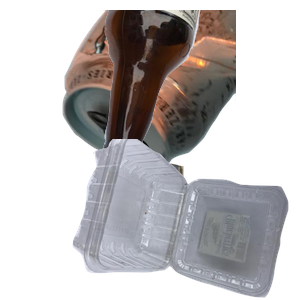glass: (99, 10, 300, 170)
metal: (60, 10, 300, 175)
plastic: (70, 139, 300, 300)
trash: (104, 152, 280, 300)
